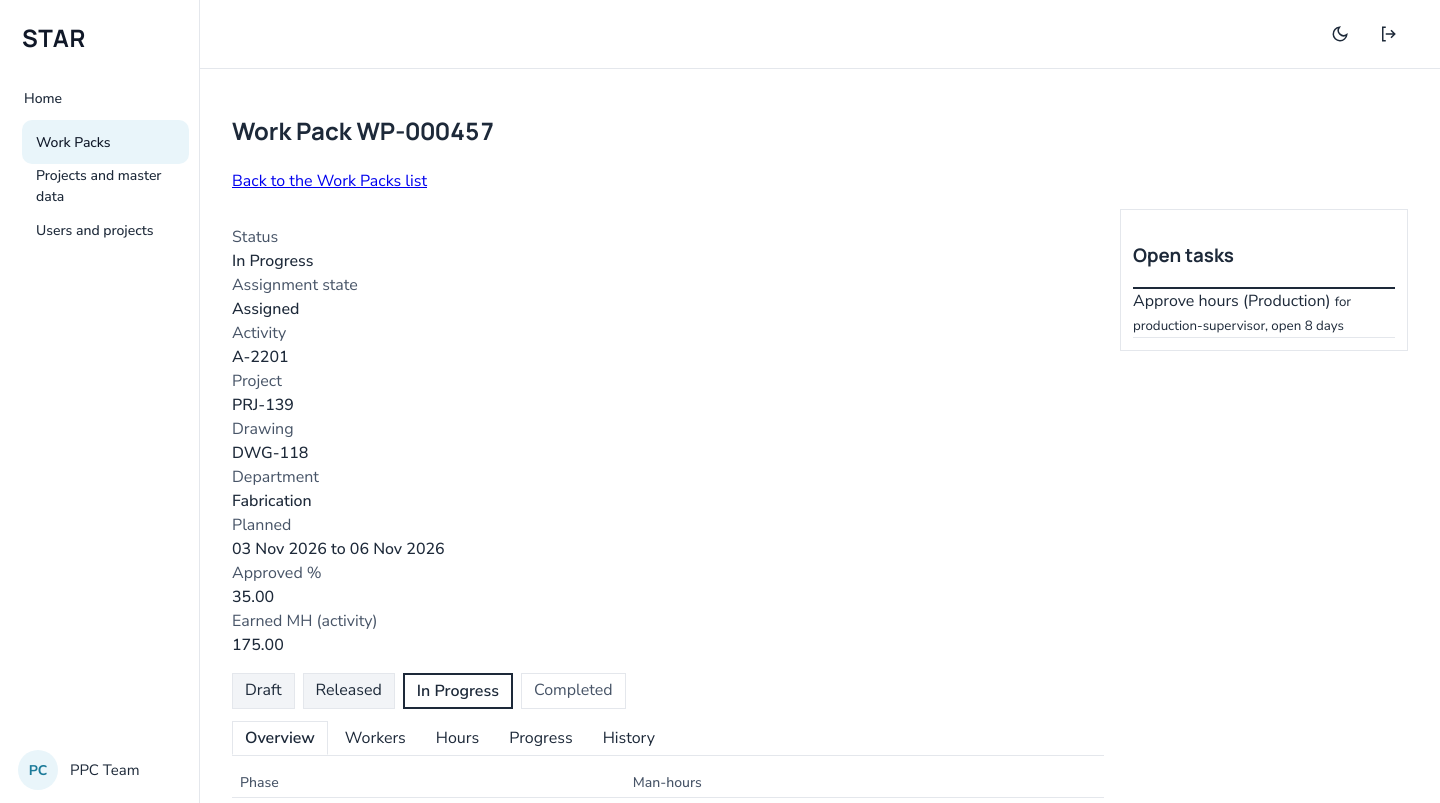
Test: WorkPackDetailPage › BPA73_hoursTabExcludesRejectedFromTotal
expect the element showing "Overview Workers Hours Progress History" is shown: met, box [232,721,1104,756]
Click the tab "Hours" at [458, 738], box [423,721,492,755]
(page scrolled)
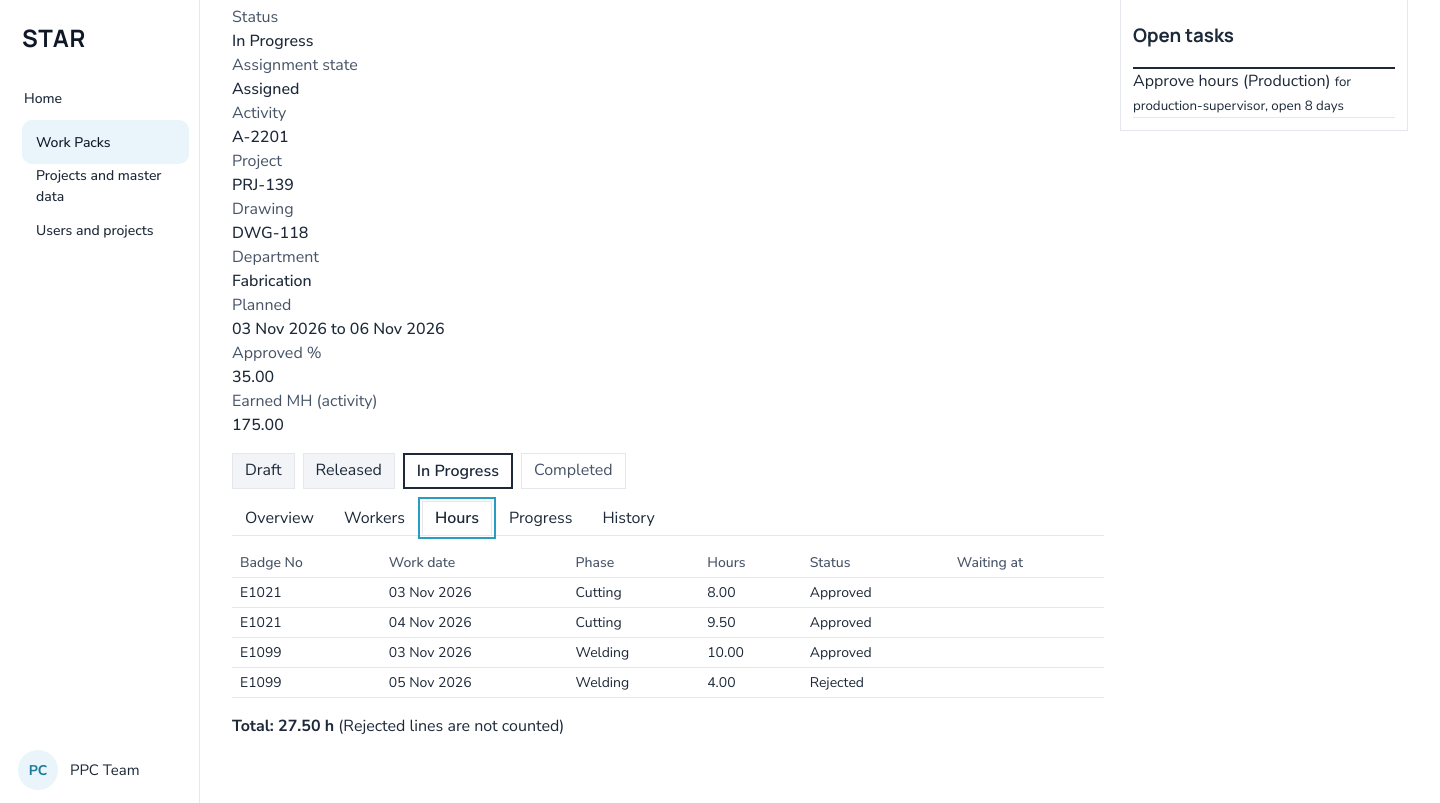
expect the number of rows is 5: met, box [232,548,1104,577]; [232,577,1104,607]; [232,607,1104,637]; [232,637,1104,667]; [232,667,1104,697]
expect the row "E1099 05 Nov 2026 Welding 4.00 Rejected" is shown: met, box [232,667,1104,697]
expect the text "Total: 27.50 h" is shown: met, box [232,715,334,737]
